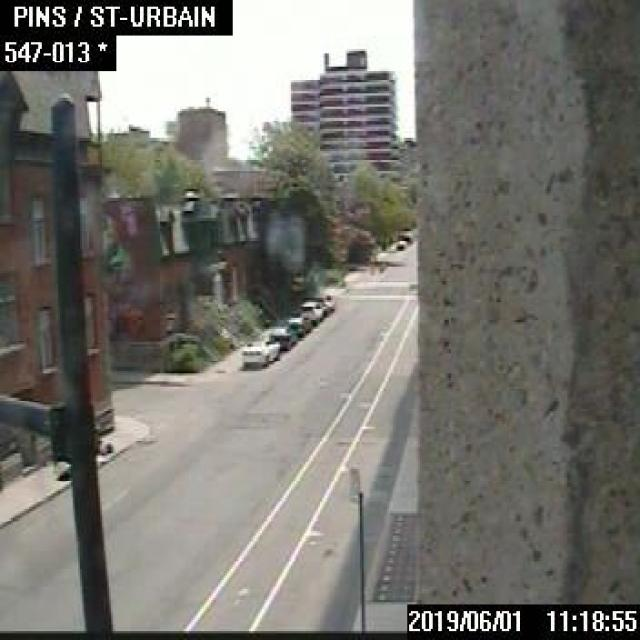vehicle: (241, 336, 278, 365), (298, 299, 326, 323), (268, 326, 295, 348), (285, 314, 311, 336), (314, 291, 334, 311), (395, 238, 405, 249)
